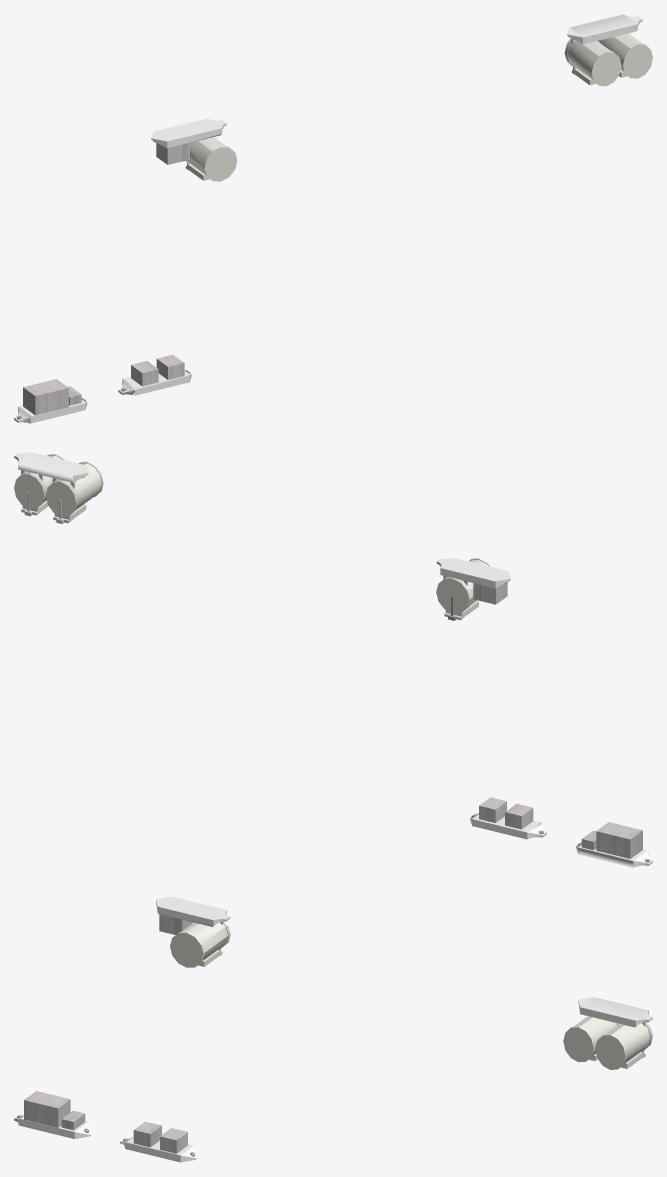
The model's file is space-shuttle-parts.glb.
3 views of the same model, one above another, from view 1: azimuth 30°, elevation 25°; view 2: azimuth 150°, elevation 25°; view 3: azimuth 330°, elevation 25° (orthographic).
Visible parts, largest first — view 1: payload.la; view 2: payload.la; view 3: payload.la.
Part boxes in pixels (bbox=[...]): payload.la: bbox=[14, 14, 652, 423]; payload.la: bbox=[14, 452, 652, 867]; payload.la: bbox=[14, 896, 652, 1162].
Size of the model in its own units: 476 by 183 by 37.82.
Materials: 5 (1 with a texture image).
